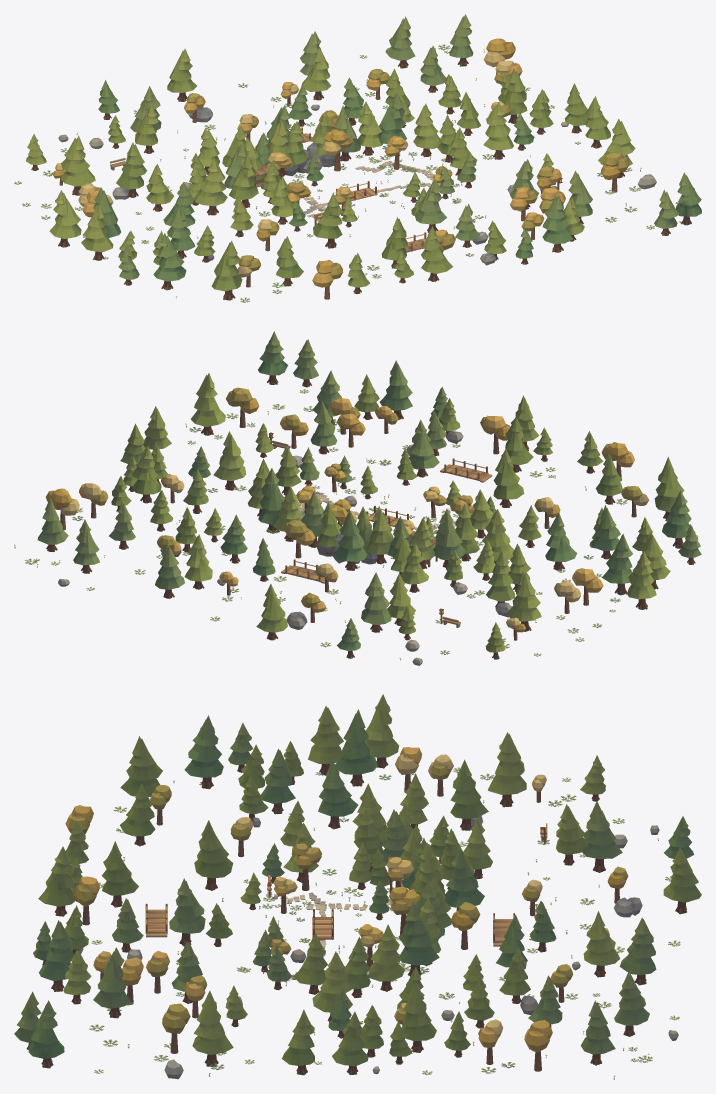
File: district_forest.glb
3 views of the same model, one above another, from view 1: azimuth 30°, elevation 25°; view 2: azimuth 150°, elevation 25°; view 3: azimuth 270°, elevation 25° (orthographic). The views are drawn at different scales.
Visible parts, largest first — view 1: Farnwald · Alte Fichten, Steinlichtungen und Fernwege, Farnwald · Tannen, Herbstbäume und Felsen, Farnwald · Steine, Bachbrücke und Waldhütte, Farnwald · Zwei weitere Bachbrücken und der Rastplatz; view 2: Farnwald · Alte Fichten, Steinlichtungen und Fernwege, Farnwald · Tannen, Herbstbäume und Felsen, Farnwald · Zwei weitere Bachbrücken und der Rastplatz, Farnwald · Steine, Bachbrücke und Waldhütte; view 3: Farnwald · Alte Fichten, Steinlichtungen und Fernwege, Farnwald · Tannen, Herbstbäume und Felsen, Farnwald · Steine, Bachbrücke und Waldhütte, Farnwald · Zwei weitere Bachbrücken und der Rastplatz.
Boxes of the visible parts, x1,y1,x2,y2 form: Farnwald · Alte Fichten, Steinlichtungen und Fernwege: (14, 14, 701, 302); Farnwald · Tannen, Herbstbäume und Felsen: (224, 92, 477, 231); Farnwald · Steine, Bachbrücke und Waldhütte: (253, 142, 440, 225); Farnwald · Zwei weitere Bachbrücken und der Rastplatz: (110, 127, 562, 252); Farnwald · Alte Fichten, Steinlichtungen und Fernwege: (14, 331, 701, 665); Farnwald · Tannen, Herbstbäume und Felsen: (248, 445, 496, 569); Farnwald · Zwei weitere Bachbrücken und der Rastplatz: (268, 432, 492, 627); Farnwald · Steine, Bachbrücke und Waldhütte: (298, 491, 455, 567); Farnwald · Alte Fichten, Steinlichtungen und Fernwege: (14, 694, 701, 1079); Farnwald · Tannen, Herbstbäume und Felsen: (240, 808, 451, 998); Farnwald · Steine, Bachbrücke und Waldhütte: (266, 857, 441, 979); Farnwald · Zwei weitere Bachbrücken und der Rastplatz: (145, 823, 547, 946).
Size of the model in its own units: 54.12 by 6.66 by 48.7.
